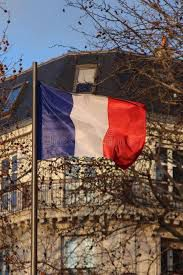French Flag: (37, 82, 146, 170)
